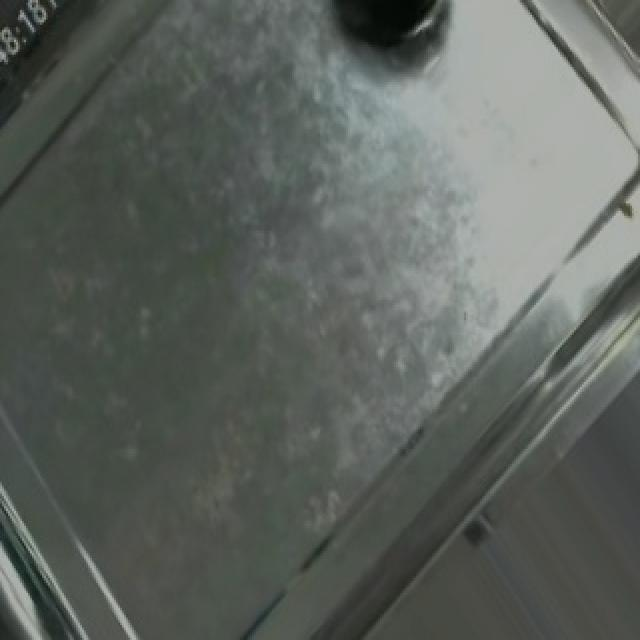Fruit: (308, 0, 462, 64)
